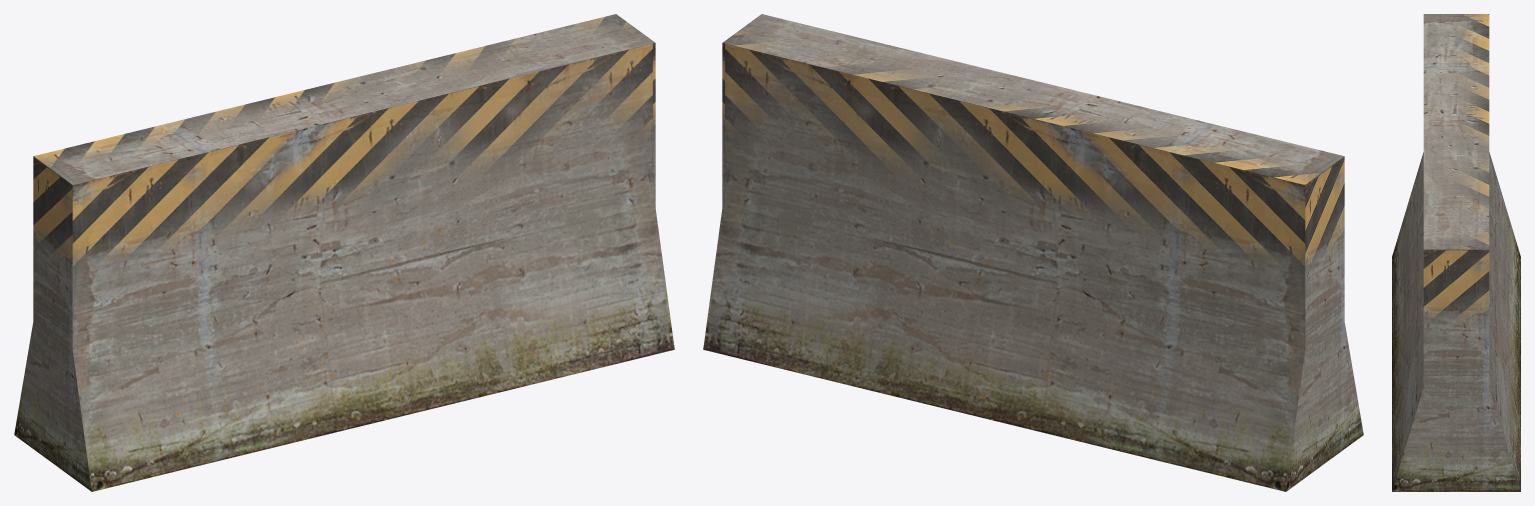
File: RoadBlock02.fbx
3 views of the same model, side by side, from view 1: azimuth 30°, elevation 25°; view 2: azimuth 150°, elevation 25°; view 3: azimuth 270°, elevation 25° (orthographic). The views are drawn at different scales.
Visible parts, largest first — view 1: RoadBlock02; view 2: RoadBlock02; view 3: RoadBlock02.
Boxes of the visible parts, x1,y1,x2,y2 form: RoadBlock02: (14,14,674,491); RoadBlock02: (703,14,1363,491); RoadBlock02: (1392,14,1520,491).
Size of the model in its own units: 102 by 48.83 by 23.5.
